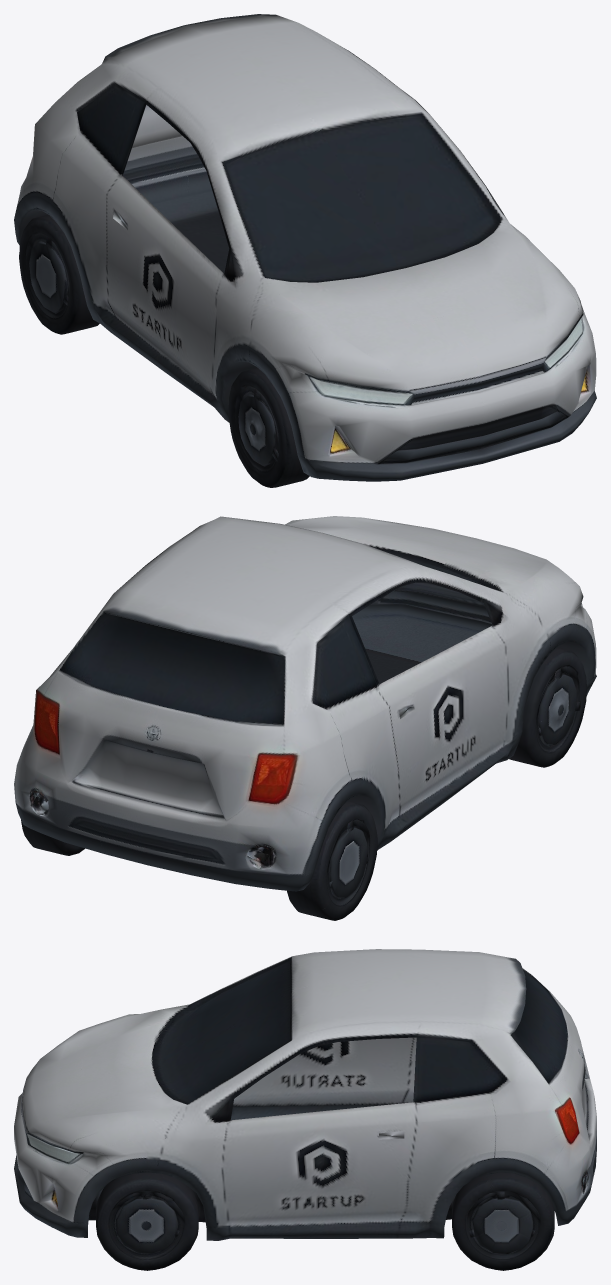
The model's file is Level1.glb.
3 views of the same model, one above another, from view 1: azimuth 30°, elevation 25°; view 2: azimuth 150°, elevation 25°; view 3: azimuth 270°, elevation 25° (orthographic). The views are drawn at different scales.
Parts seen in each view (by area): view 1: tripo_node_bd85141d-09c1-47b8-b940-e1b370fb2d3c; view 2: tripo_node_bd85141d-09c1-47b8-b940-e1b370fb2d3c; view 3: tripo_node_bd85141d-09c1-47b8-b940-e1b370fb2d3c.
Boxes of the visible parts, x1=… form: tripo_node_bd85141d-09c1-47b8-b940-e1b370fb2d3c: x1=14, y1=14, x2=596, y2=487; tripo_node_bd85141d-09c1-47b8-b940-e1b370fb2d3c: x1=14, y1=516, x2=596, y2=920; tripo_node_bd85141d-09c1-47b8-b940-e1b370fb2d3c: x1=14, y1=949, x2=596, y2=1270.
Size of the model in its own units: 0.5137 by 0.4355 by 0.998.
Materials: 1 (1 with a texture image).
